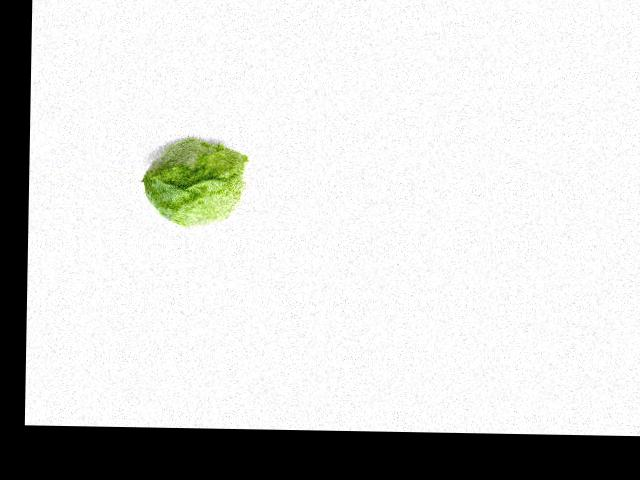lettuce: (142, 132, 247, 234)
